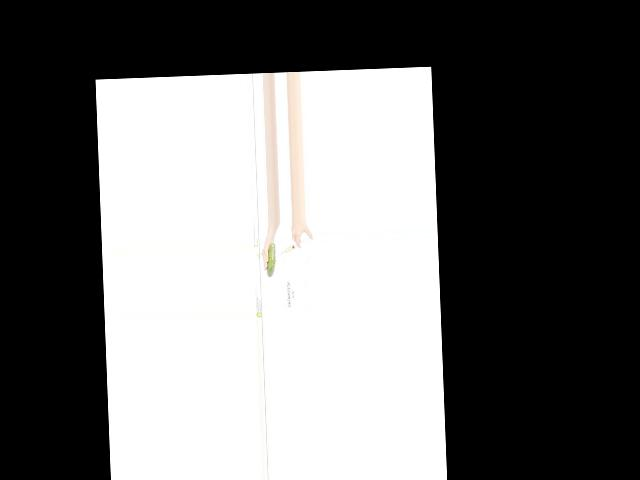cucumber: (265, 242, 275, 276)
